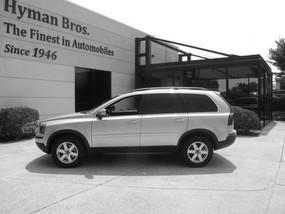car: (31, 88, 238, 171)
